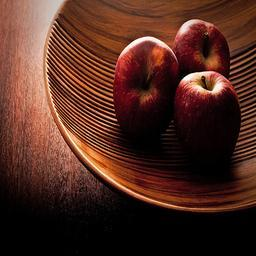apple: (112, 38, 181, 145), (176, 71, 241, 171), (172, 18, 229, 78)
